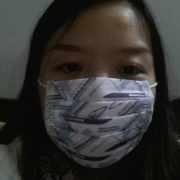OK: (39, 45, 162, 170)
